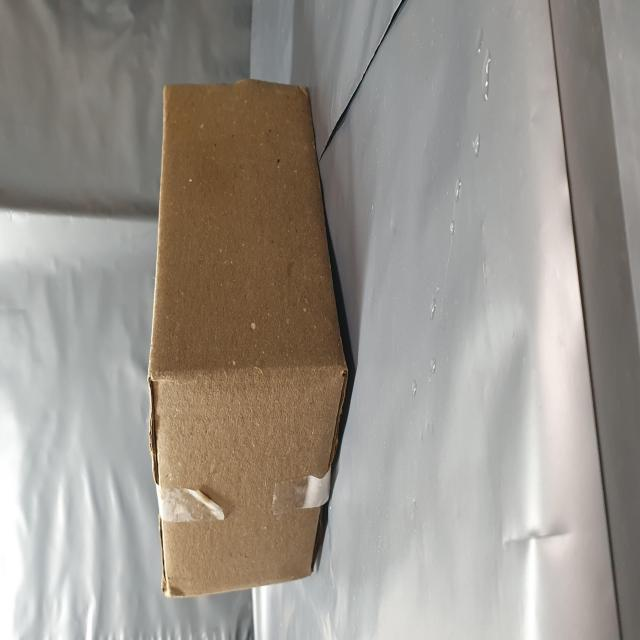wet: (28, 271, 319, 609)
